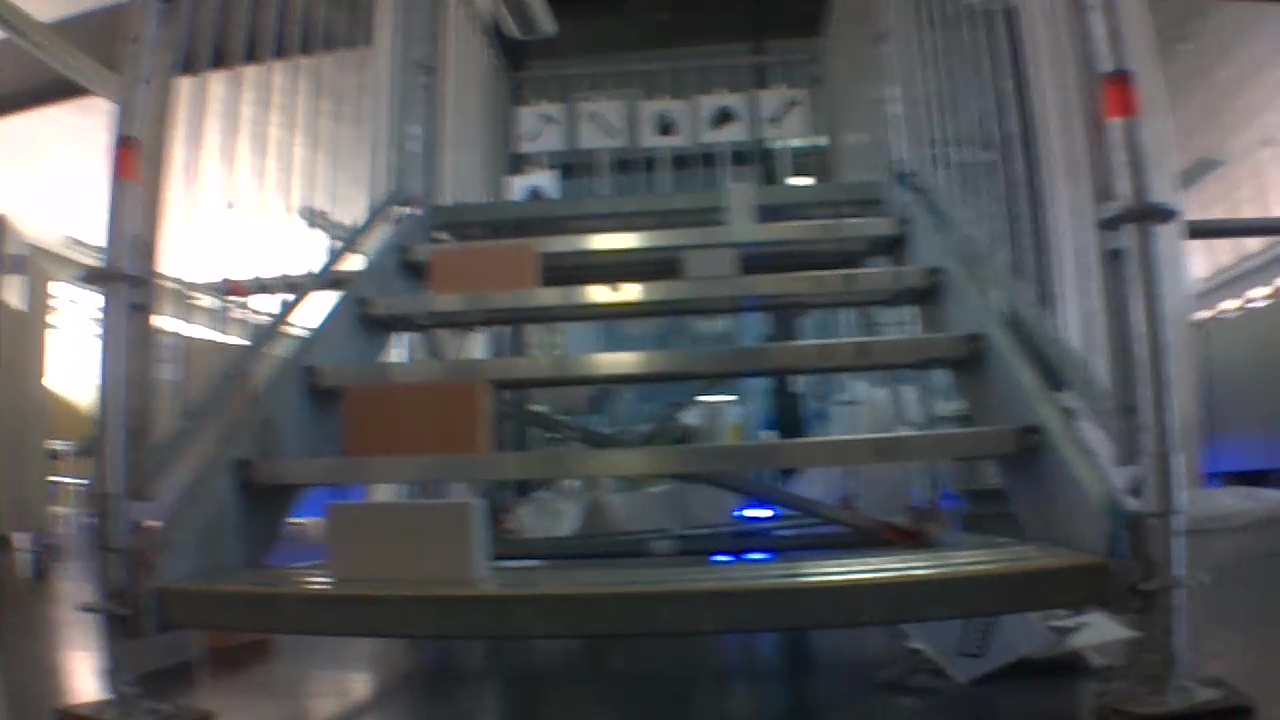brick: (327, 498, 485, 582), (344, 381, 490, 454), (433, 244, 535, 288), (683, 248, 732, 276), (727, 183, 753, 224)
bucket: (647, 104, 684, 140)
edge: (160, 563, 1109, 634), (237, 425, 1047, 478), (304, 332, 986, 386), (356, 265, 942, 311), (432, 179, 878, 215), (400, 220, 904, 249)
hammer: (519, 108, 561, 147)
stairs: (49, 0, 1260, 718)
steps: (150, 167, 1115, 648)
taco: (705, 100, 743, 132)
wrench: (765, 90, 808, 135)
